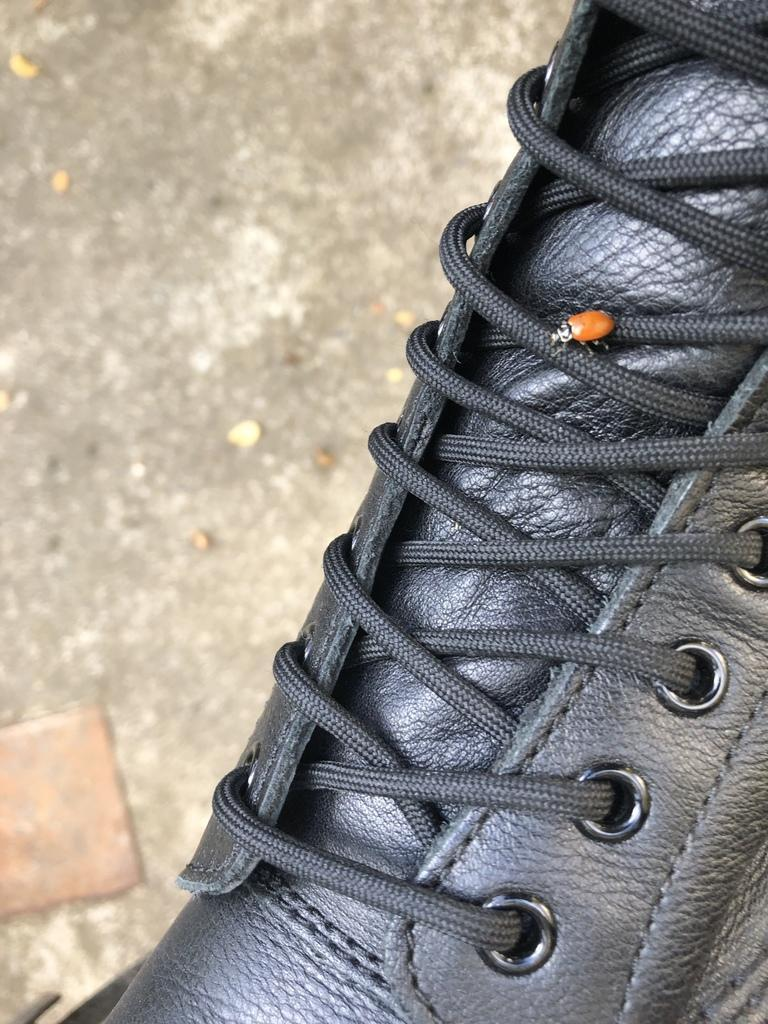ladybug: (546, 307, 621, 356)
